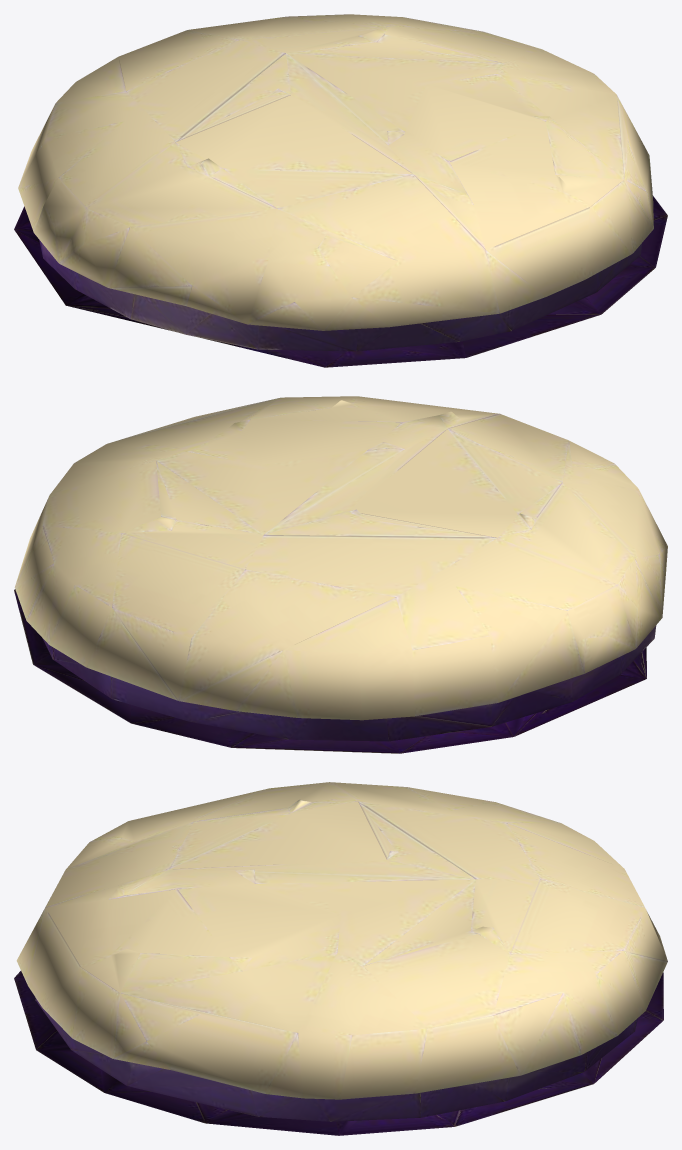
Rendered from dough.glb.
3 views of the same model, one above another, from view 1: azimuth 30°, elevation 25°; view 2: azimuth 150°, elevation 25°; view 3: azimuth 270°, elevation 25° (orthographic). The views are drawn at different scales.
Bounding box in the file's own units: 1.91 × 0.4151 × 1.9.
1 material, 1 textured.
